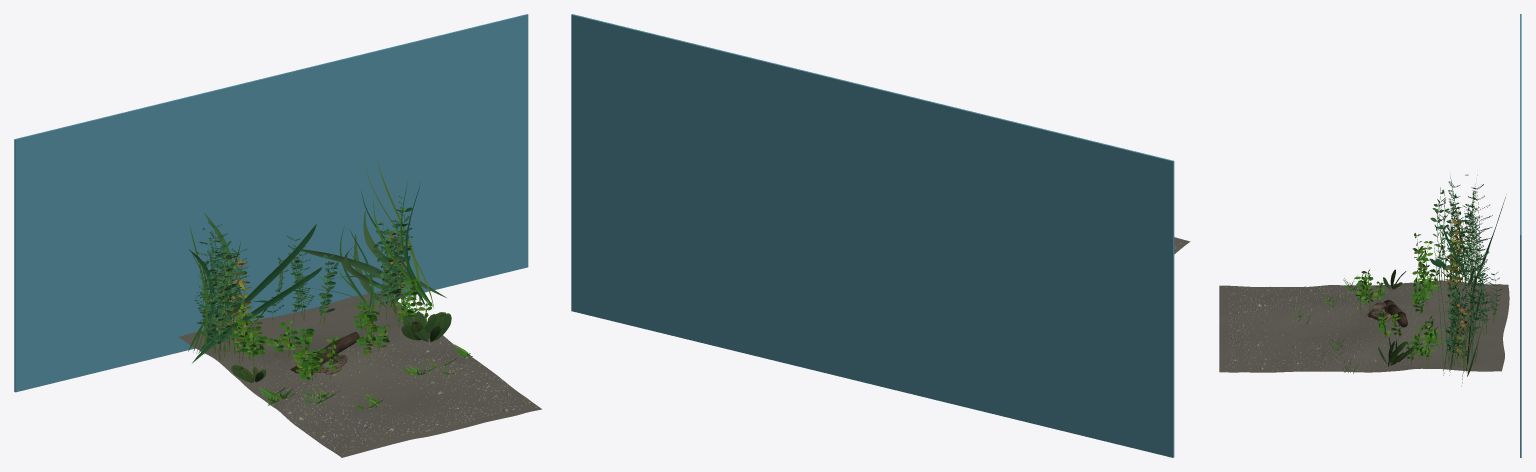
The model's file is environment.glb.
3 renders of one model, left to right at view 1: azimuth 30°, elevation 25°; view 2: azimuth 150°, elevation 25°; view 3: azimuth 270°, elevation 25°, orthographic. The views are drawn at different scales.
Visible parts, largest first — view 1: blue water background.001, undulating natural gravel bed.001, 04 medium stems.001, 05 irregular small leaf bushes.001, fine gravel openings.001, 01 flowing ribbon plants.001, 02 tall grass.001, supporting stems.001, 03 fine feather plants.001, 06 broad leaves.001, 07 low foreground plants.001; view 2: blue water background.001; view 3: undulating natural gravel bed.001, fine gravel openings.001, 04 medium stems.001, 05 irregular small leaf bushes.001, 03 fine feather plants.001, supporting stems.001, 01 flowing ribbon plants.001, blue water background.001, 02 tall grass.001, 06 broad leaves.001, 07 low foreground plants.001.
Part boxes in pixels (x1,y1,x2,y2): blue water background.001: [14, 14, 528, 392]; undulating natural gravel bed.001: [178, 291, 541, 457]; 04 medium stems.001: [197, 207, 412, 343]; 05 irregular small leaf bushes.001: [231, 278, 432, 379]; fine gravel openings.001: [233, 333, 538, 454]; 01 flowing ribbon plants.001: [189, 210, 446, 363]; 02 tall grass.001: [188, 159, 433, 354]; supporting stems.001: [204, 214, 427, 384]; 03 fine feather plants.001: [194, 196, 412, 333]; 06 broad leaves.001: [231, 311, 451, 382]; 07 low foreground plants.001: [258, 344, 472, 408]; blue water background.001: [571, 14, 1174, 457]; undulating natural gravel bed.001: [1219, 280, 1509, 372]; fine gravel openings.001: [1225, 283, 1418, 372]; 04 medium stems.001: [1430, 187, 1491, 358]; 05 irregular small leaf bushes.001: [1354, 233, 1442, 360]; 03 fine feather plants.001: [1446, 174, 1502, 351]; supporting stems.001: [1360, 191, 1496, 372]; 01 flowing ribbon plants.001: [1430, 176, 1505, 386]; blue water background.001: [1520, 14, 1521, 457]; 02 tall grass.001: [1433, 175, 1482, 375]; 06 broad leaves.001: [1378, 269, 1414, 366]; 07 low foreground plants.001: [1291, 278, 1359, 373].
Size of the model in its own units: 17 by 8 by 9.83.
28 materials, 3 textured.
